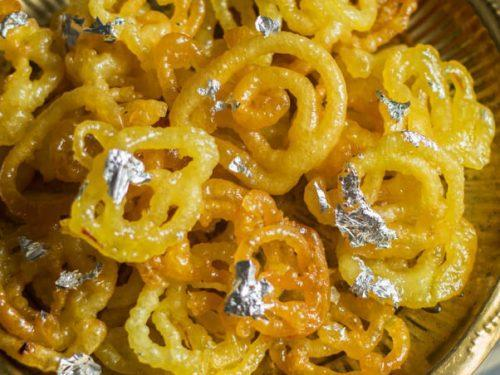jalebi: (2, 0, 484, 375)
